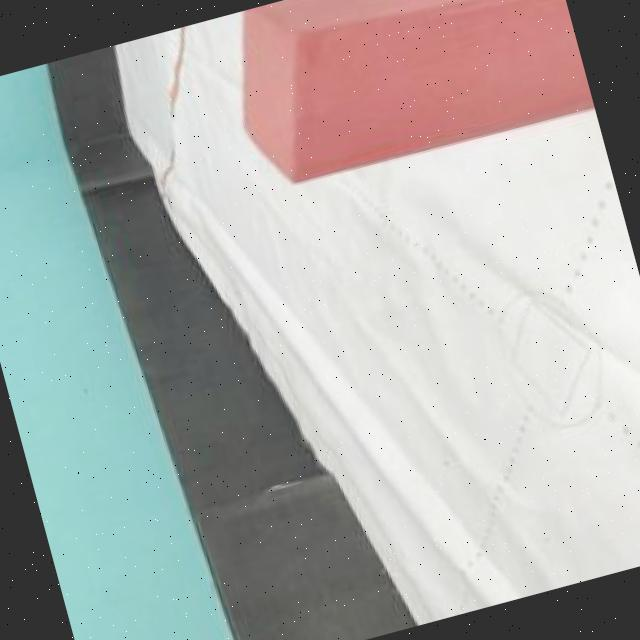redbox: (214, 0, 593, 193)
